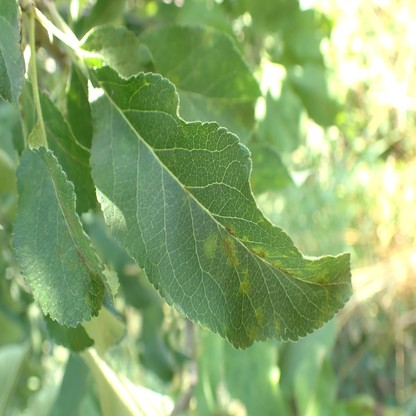scab: (274, 258, 350, 286), (76, 249, 104, 304), (221, 236, 237, 266), (203, 232, 215, 263), (248, 245, 268, 260), (239, 269, 248, 291), (245, 324, 259, 338), (255, 306, 264, 325), (66, 258, 76, 270), (225, 221, 234, 234), (57, 245, 64, 261), (274, 317, 280, 331), (242, 235, 249, 242)
